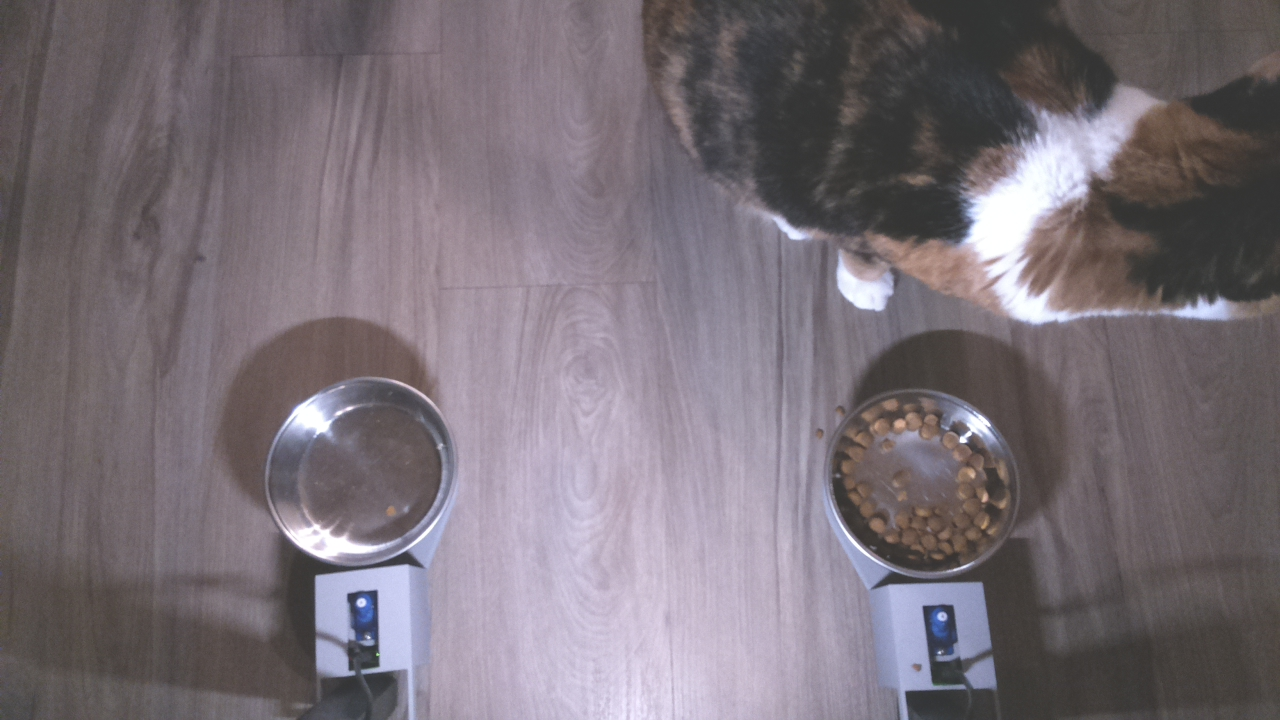bella: (1026, 51, 1280, 328)
open_bowl: (815, 383, 1028, 590), (257, 375, 455, 569)
